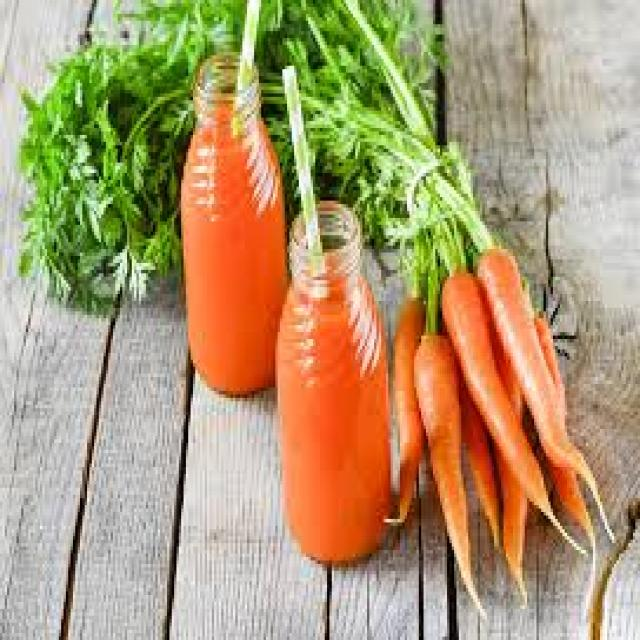organic waste: (21, 34, 177, 308), (475, 235, 612, 522), (442, 256, 579, 540), (259, 0, 433, 194), (358, 121, 494, 325), (409, 328, 485, 622), (518, 304, 600, 568), (115, 0, 447, 59), (490, 301, 530, 612), (452, 346, 501, 543), (384, 287, 424, 526)
